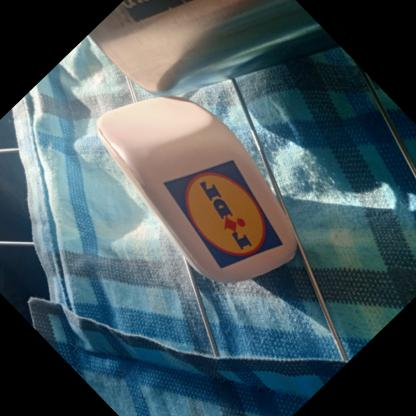Cube: (69, 53, 328, 316)
